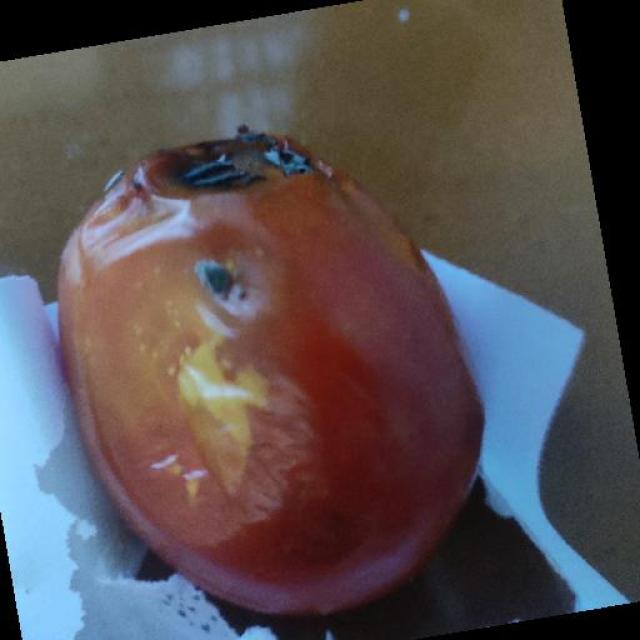Stale_tomato: (58, 123, 490, 592)
